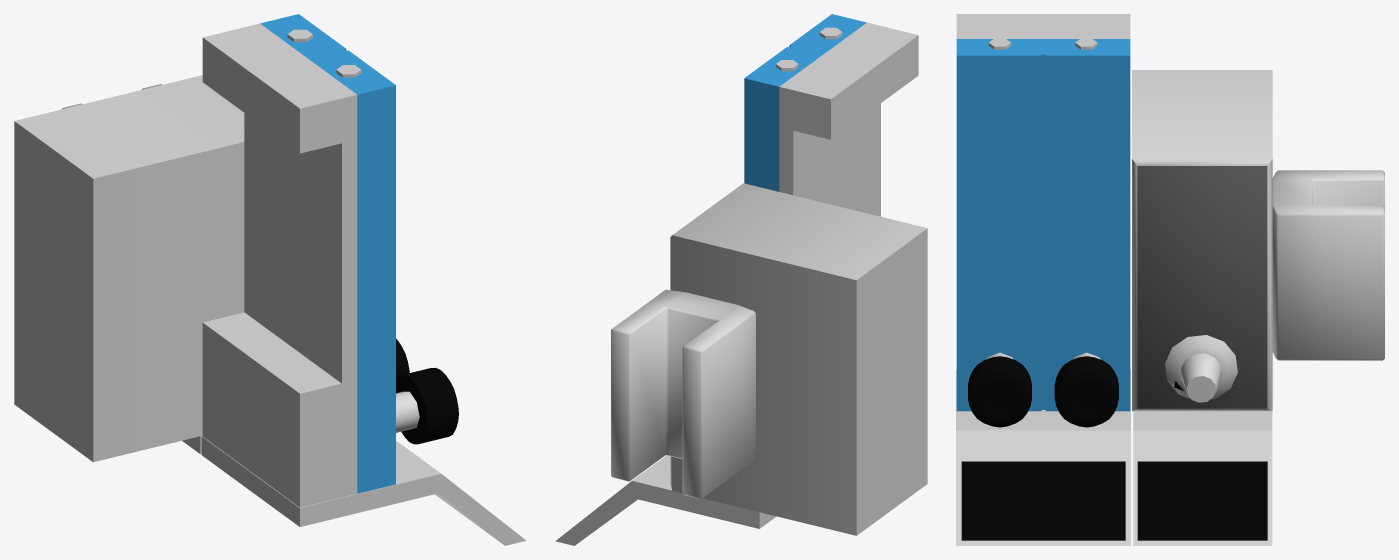
Rendered from airMixer.fbx.
3 views of the same model, side by side, from view 1: azimuth 30°, elevation 25°; view 2: azimuth 150°, elevation 25°; view 3: azimuth 270°, elevation 25° (orthographic). The views are drawn at different scales.
Parts seen in each view (by area): view 1: AirMixer, AirMixer.001, knobmL; view 2: AirMixer, AirMixer.001; view 3: AirMixer, AirMixer.001, knobL, knobmL, knobFio2.
Part boxes in pixels (left/top/right/bottom): AirMixer: left=14, top=14, right=395, bottom=507; AirMixer.001: left=182, top=435, right=526, bottom=545; knobmL: left=396, top=367, right=458, bottom=444; AirMixer: left=611, top=14, right=927, bottom=535; AirMixer.001: left=555, top=455, right=776, bottom=545; AirMixer: left=956, top=14, right=1384, bottom=411; AirMixer.001: left=956, top=369, right=1272, bottom=545; knobL: left=1054, top=352, right=1118, bottom=427; knobmL: left=968, top=352, right=1031, bottom=427; knobFio2: left=1165, top=335, right=1237, bottom=402.
Bounding box in the file's own units: 15.37 × 21.52 × 19.16.
